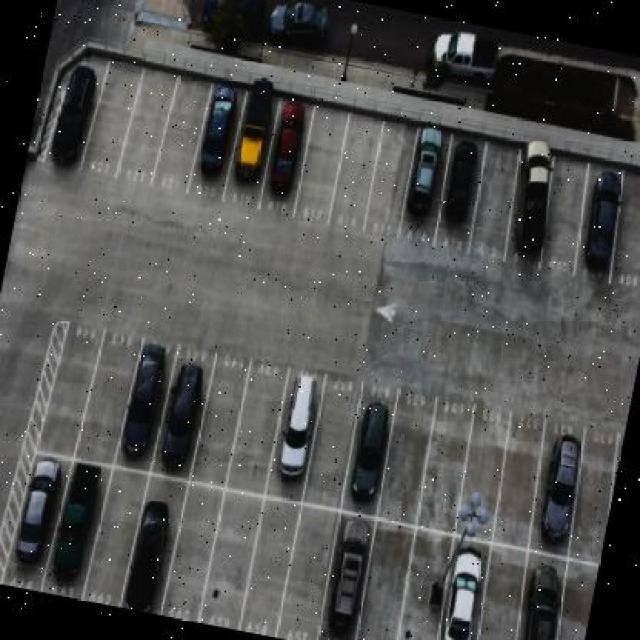Car: (529, 424, 593, 560), (221, 75, 283, 212), (47, 44, 113, 163), (119, 489, 181, 615), (259, 80, 312, 220), (44, 452, 104, 570), (192, 70, 246, 198), (431, 536, 497, 640), (157, 362, 214, 478), (510, 129, 558, 264), (121, 333, 172, 458), (275, 360, 324, 484), (435, 130, 486, 244), (404, 124, 455, 229), (12, 457, 61, 566), (510, 562, 570, 640), (575, 173, 621, 269), (334, 524, 374, 624), (350, 404, 387, 495)
Empty: (356, 533, 412, 640), (97, 463, 143, 592), (124, 67, 172, 184), (46, 333, 93, 449), (288, 515, 337, 626), (172, 490, 219, 604), (90, 63, 138, 169), (232, 381, 281, 483), (366, 135, 415, 236), (246, 514, 295, 614), (156, 87, 204, 189), (214, 503, 257, 614), (538, 164, 584, 267), (300, 118, 346, 221), (83, 350, 129, 450), (480, 552, 531, 640), (200, 383, 247, 477), (332, 132, 378, 226), (572, 446, 615, 544), (402, 548, 447, 640), (498, 432, 539, 529), (424, 421, 466, 513), (392, 409, 432, 504), (466, 415, 506, 509), (312, 398, 353, 487), (475, 158, 516, 236), (558, 579, 596, 640), (616, 190, 640, 275)
